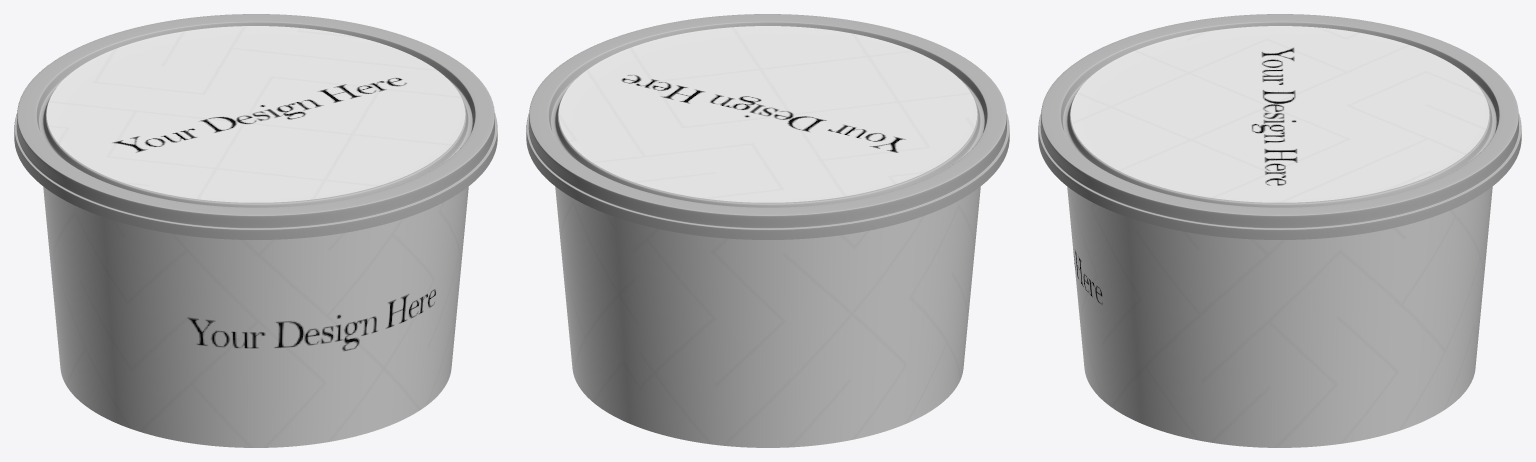
Rendered from Round.glb.
The picture shows the model from 3 angles, left to right: view 1: azimuth 30°, elevation 25°; view 2: azimuth 150°, elevation 25°; view 3: azimuth 270°, elevation 25°; orthographic projection.
Visible parts, largest first — view 1: Bottom.004, Lid.006; view 2: Bottom.004, Lid.006; view 3: Bottom.004, Lid.006.
Boxes of the visible parts, <box> form: Bottom.004: <box>43,26,468,447</box>; Lid.006: <box>14,14,497,239</box>; Bottom.004: <box>555,26,980,447</box>; Lid.006: <box>526,14,1009,239</box>; Bottom.004: <box>1067,26,1492,447</box>; Lid.006: <box>1038,14,1521,239</box>.
Size of the model in its own units: 0.148 by 0.0848 by 0.148.
Materials: 3 (1 with a texture image).
